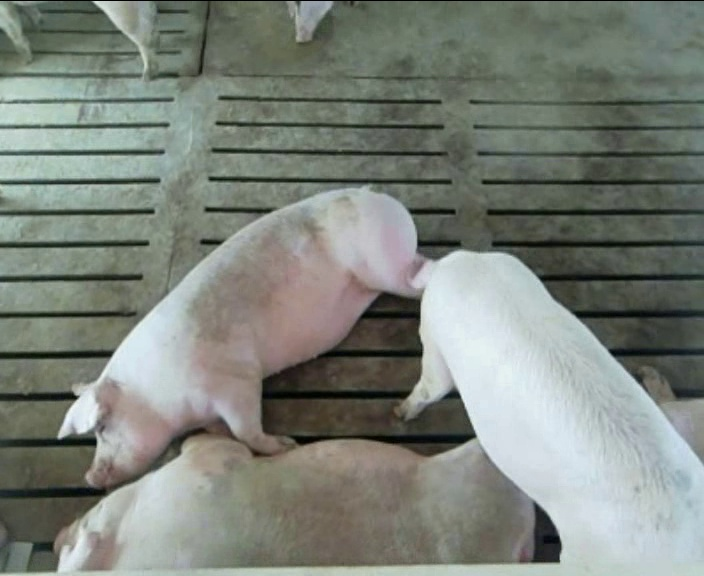pig: (58, 188, 423, 487), (398, 251, 703, 562), (55, 434, 533, 571)
